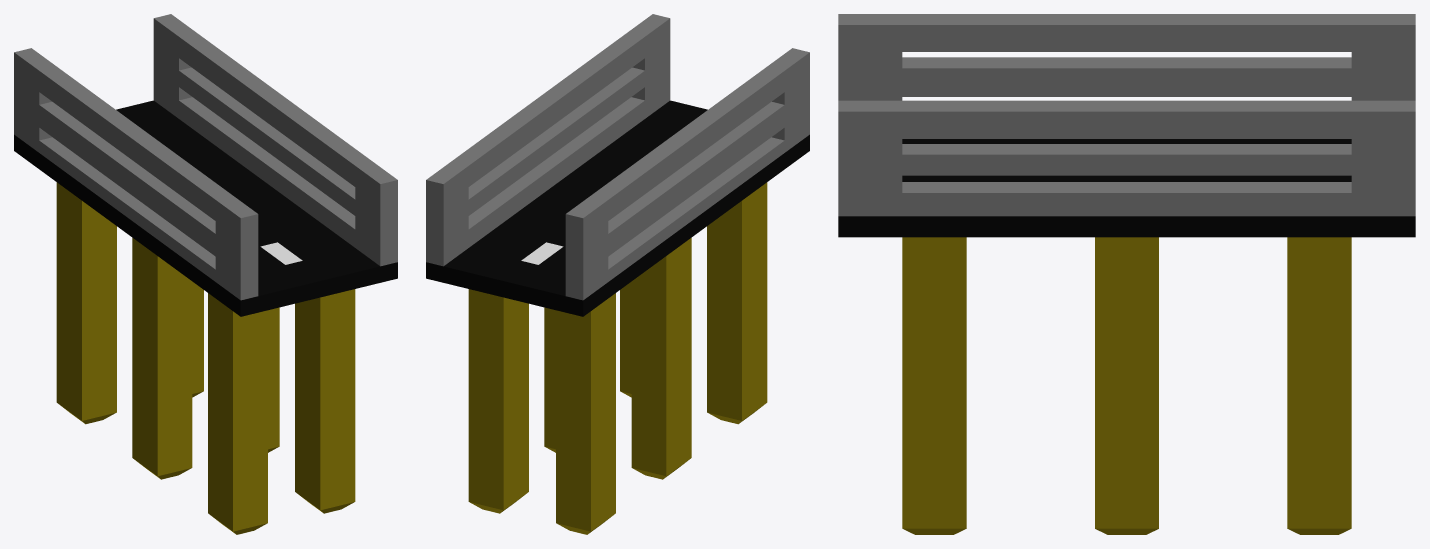
The model's file is BridgeSlice.fbx.
3 renders of one model, left to right at view 1: azimuth 30°, elevation 25°; view 2: azimuth 150°, elevation 25°; view 3: azimuth 270°, elevation 25°, orthographic. The views are drawn at different scales.
Visible parts, largest first — view 1: Bridge; view 2: Bridge; view 3: Bridge.
Part boxes in pixels (left/top/right/bottom): Bridge: left=14, top=14, right=397, bottom=534; Bridge: left=426, top=14, right=809, bottom=534; Bridge: left=838, top=14, right=1415, bottom=534.
Size of the model in its own units: 10 by 21 by 25.
